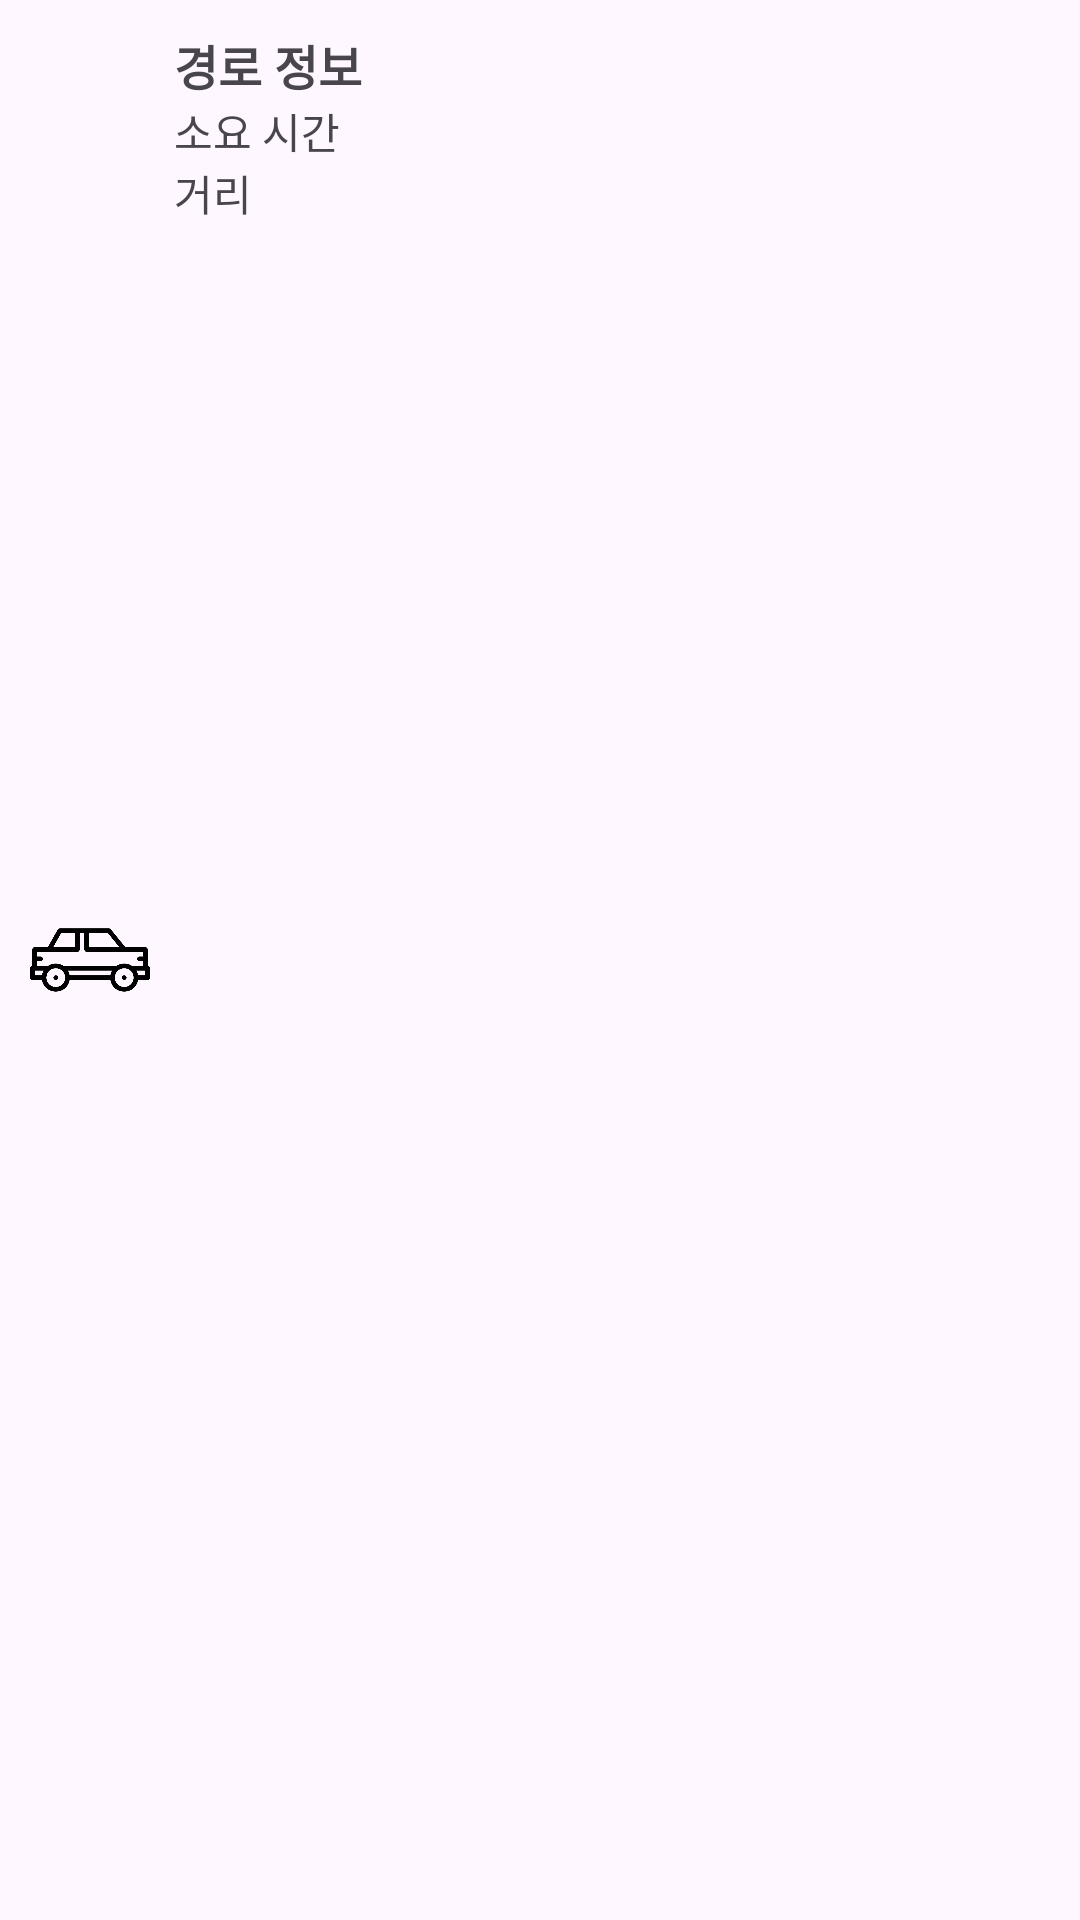

Icons on this 1080×1920 Android screen, each with the point to tap as (x,y):
car: (90,960)
